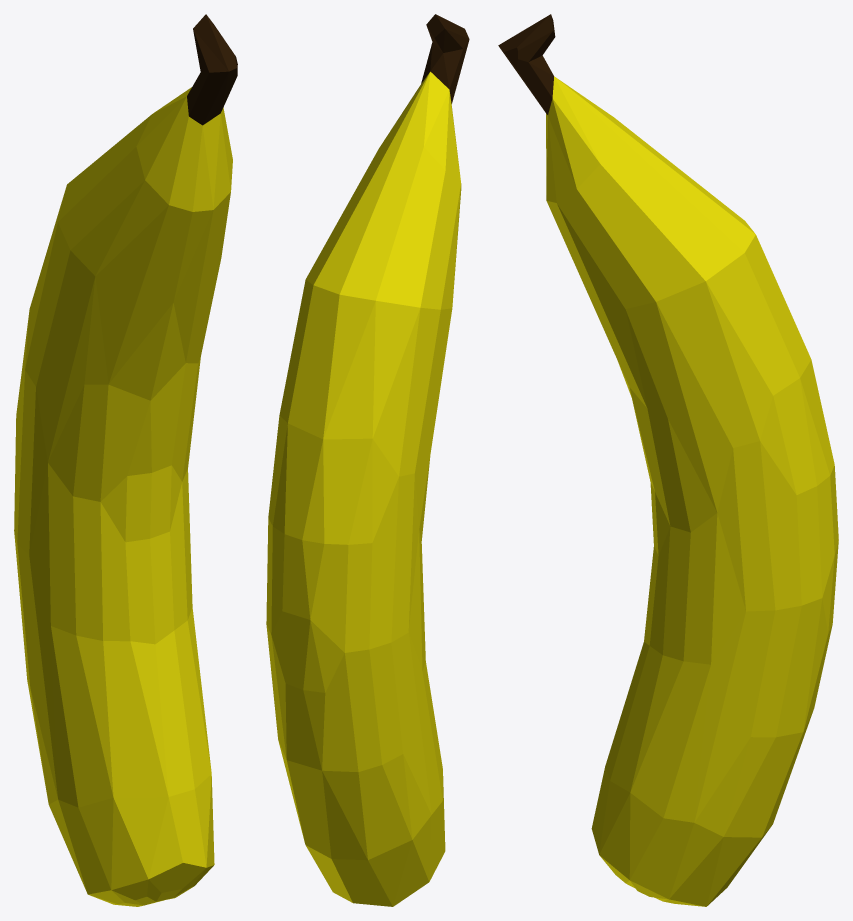
File: banana.fbx
3 renders of one model, left to right at view 1: azimuth 30°, elevation 25°; view 2: azimuth 150°, elevation 25°; view 3: azimuth 270°, elevation 25°, orthographic. The views are drawn at different scales.
Parts seen in each view (by area): view 1: Cylinder; view 2: Cylinder; view 3: Cylinder.
Boxes of the visible parts, x1,y1,x2,y2 form: Cylinder: (14, 14, 237, 906); Cylinder: (266, 14, 469, 906); Cylinder: (498, 14, 838, 906).
Bounding box in the file's own units: 17.17 × 106 × 37.24.
